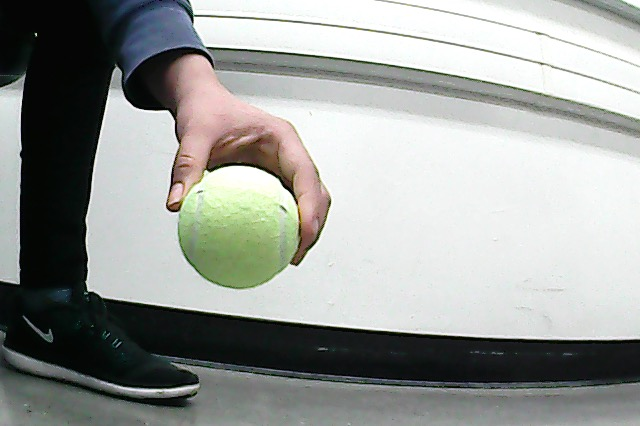ball: (178, 166, 300, 290)
